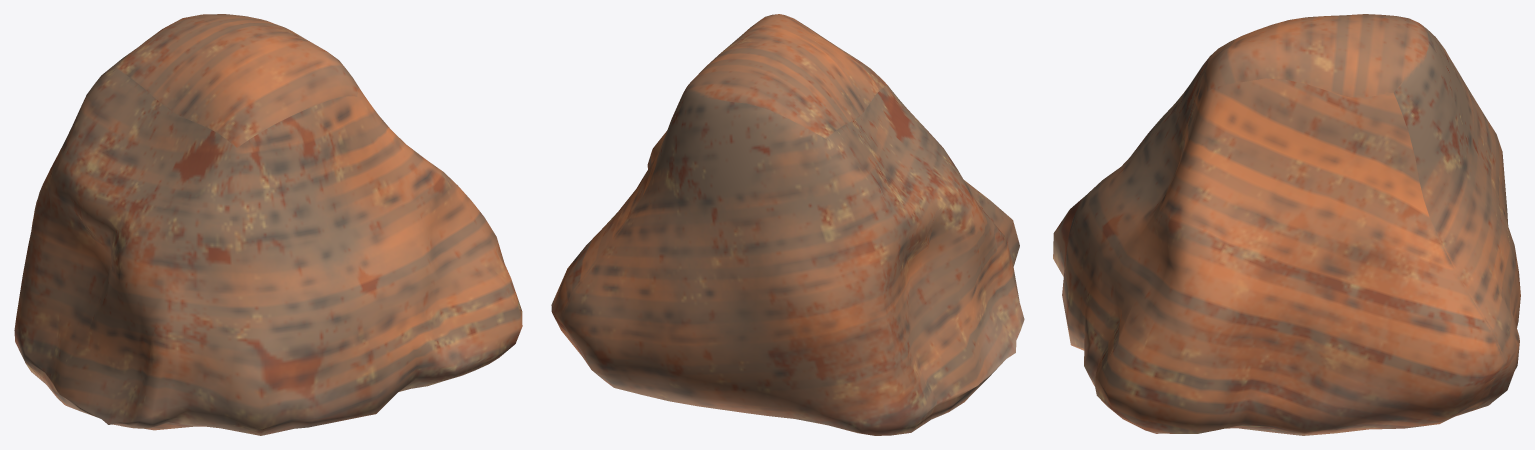
The model's file is Rock1.fbx.
3 views of the same model, side by side, from view 1: azimuth 30°, elevation 25°; view 2: azimuth 150°, elevation 25°; view 3: azimuth 270°, elevation 25° (orthographic). The views are drawn at different scales.
Parts seen in each view (by area): view 1: Rock1; view 2: Rock1; view 3: Rock1.
Boxes of the visible parts, box(x1,y1,x2,y2) form: Rock1: box(14, 14, 522, 435); Rock1: box(551, 14, 1024, 435); Rock1: box(1053, 14, 1520, 435).
Size of the model in its own units: 3005 by 2374 by 2897.
